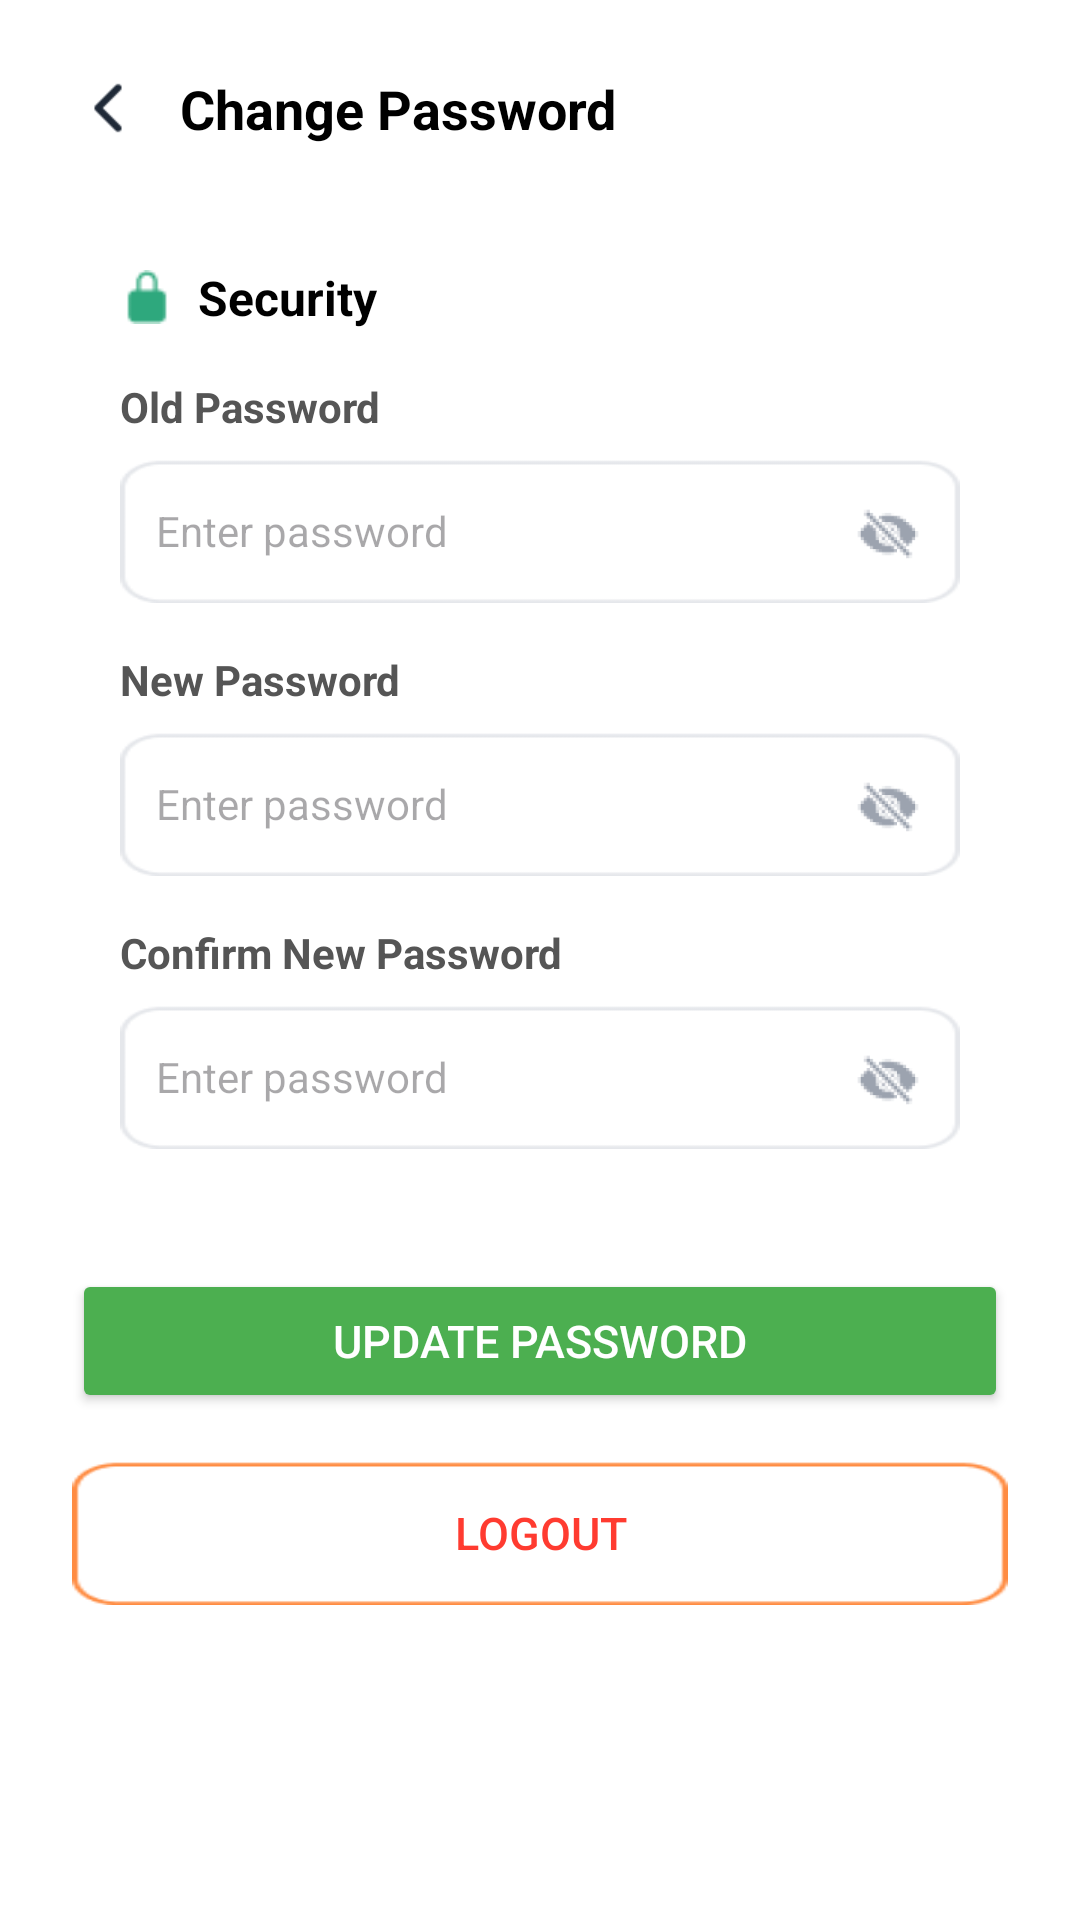

Icons on this 1080 x 1920 Android screen, each with the point to tap as point (x, y):
Back: point (108, 108)
hidden: point (888, 534), point (888, 807), point (888, 1080)
lock: point (147, 297)
